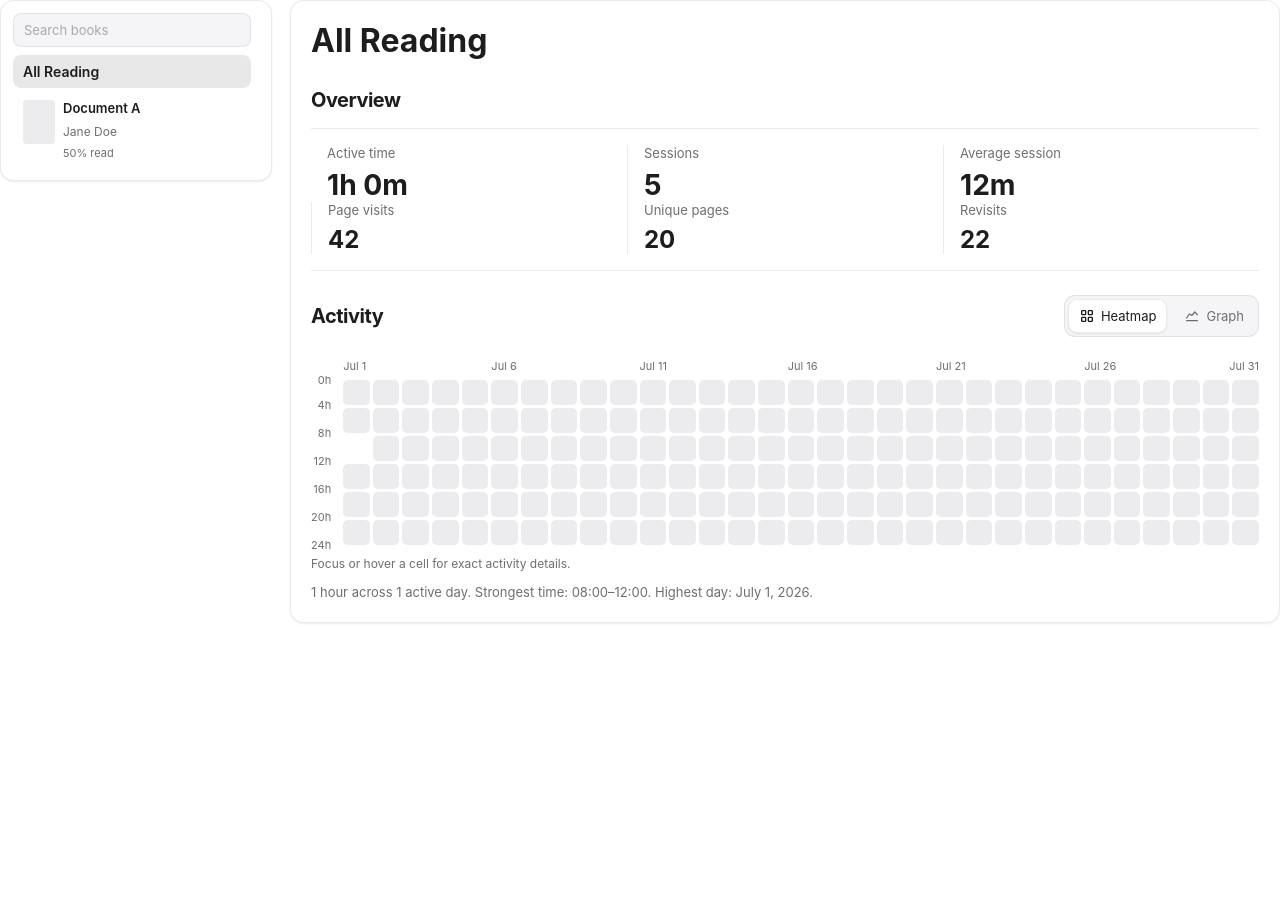
it: uses approved book copy for an empty Reading filter
Type "not-present" into the search field labelled "Search books" at coordinates (132, 30), box [13, 13, 251, 47]
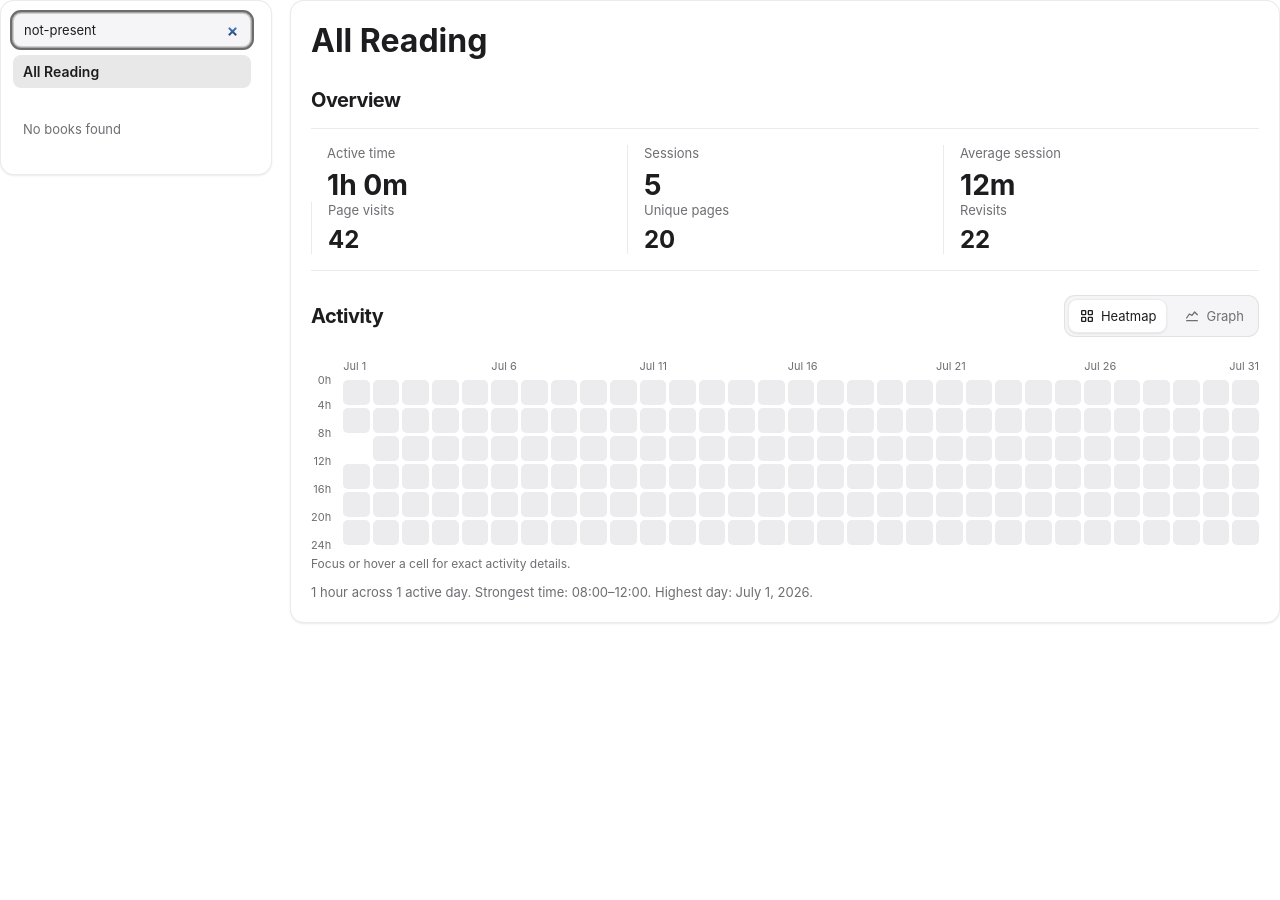
Now the text "No books found" is shown, box [23, 121, 121, 137]
